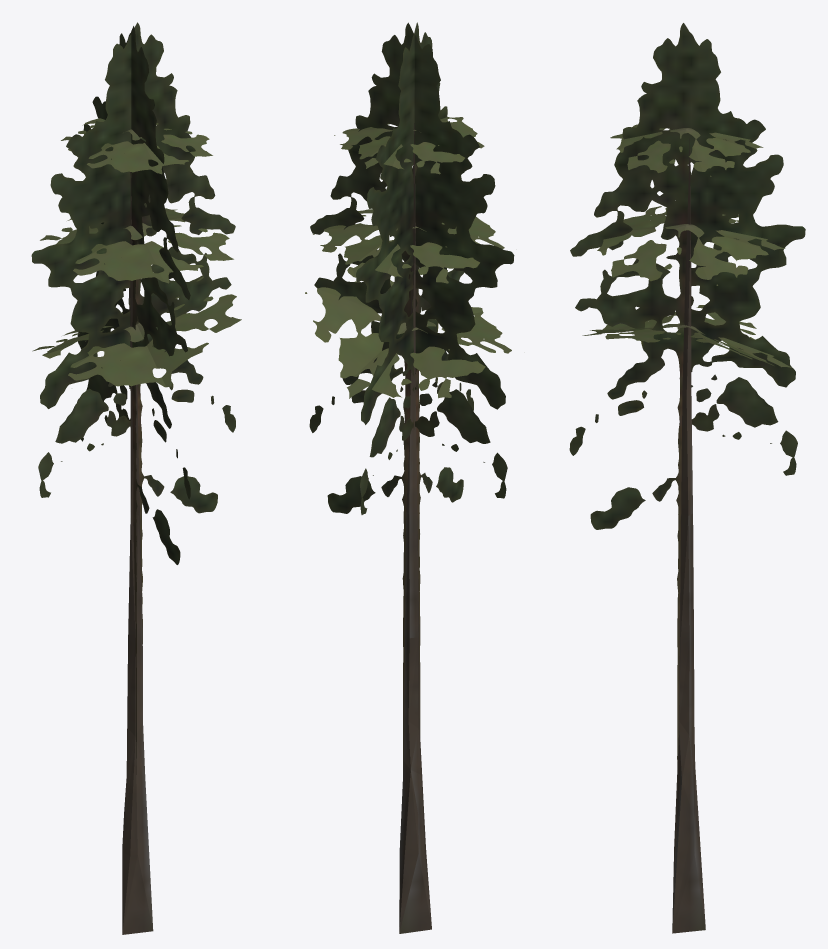
The model's file is forest_pine007.glb.
3 views of the same model, side by side, from view 1: azimuth 30°, elevation 25°; view 2: azimuth 150°, elevation 25°; view 3: azimuth 270°, elevation 25° (orthographic).
Bounding box in the file's own units: 1.95 × 7.8 × 1.95.
1 material, 1 textured.
